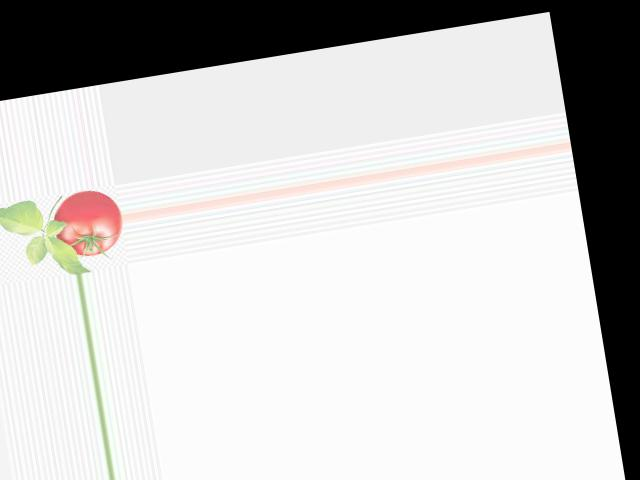tomato: (49, 185, 126, 260)
